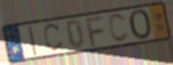0: (65, 18, 86, 50)
C: (107, 12, 131, 43), (42, 22, 65, 53)
F: (84, 15, 106, 48)
I: (27, 24, 39, 57)
O: (127, 8, 153, 42)
